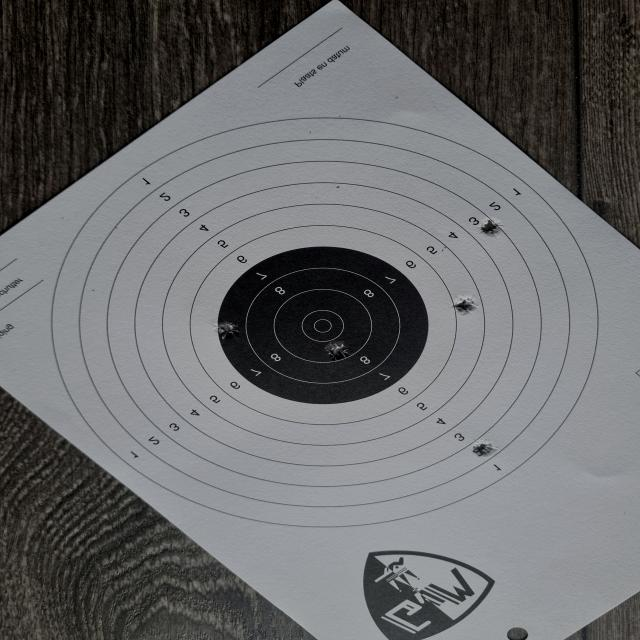3: (473, 438, 498, 457), (480, 219, 504, 235)
6: (452, 295, 479, 316)
7: (212, 322, 238, 340)
9: (325, 343, 349, 361)
Target: (52, 118, 600, 529)
black_contour: (218, 246, 430, 404)
